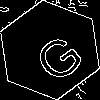G: (25, 25, 88, 86)
